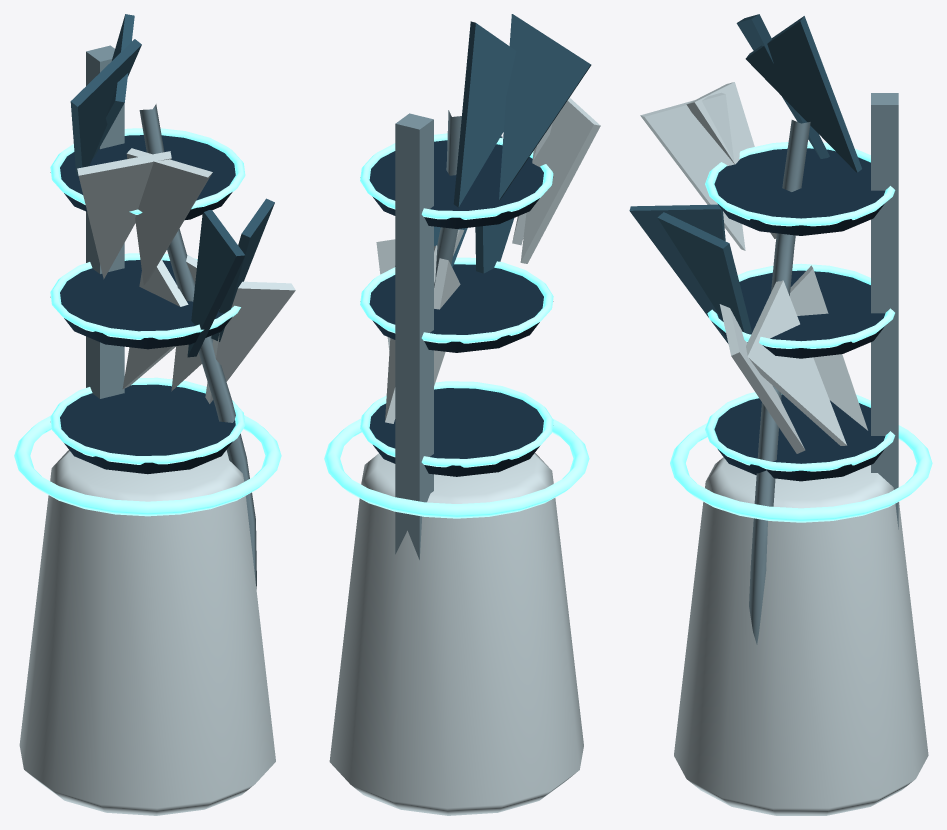
File: pottedplant.glb
3 views of the same model, side by side, from view 1: azimuth 30°, elevation 25°; view 2: azimuth 150°, elevation 25°; view 3: azimuth 270°, elevation 25° (orthographic).
Visible parts, largest first — view 1: atelier-cyber-pottedplant; view 2: atelier-cyber-pottedplant; view 3: atelier-cyber-pottedplant.
Part boxes in pixels (bbox=[...]): atelier-cyber-pottedplant: bbox=[14, 14, 295, 815]; atelier-cyber-pottedplant: bbox=[324, 14, 600, 815]; atelier-cyber-pottedplant: bbox=[629, 14, 932, 815].
Bounding box in the file's own units: 0.3199 × 1 × 0.3691.
